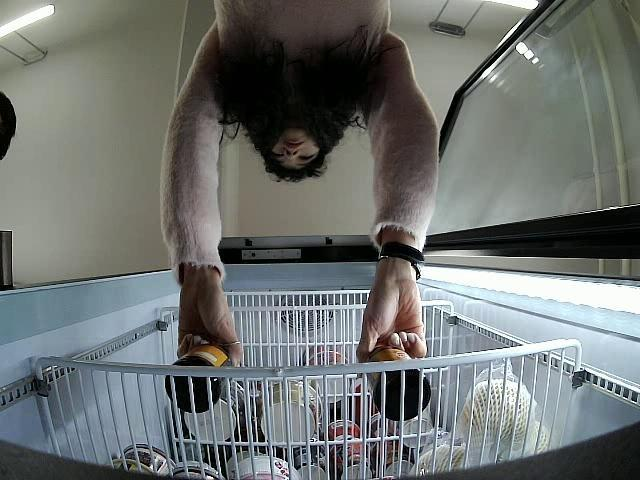17_vita500: (362, 342, 431, 419), (167, 339, 226, 414)
